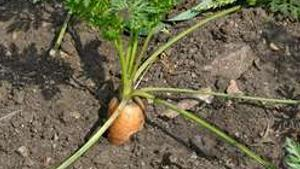carrot: (105, 83, 144, 147)
